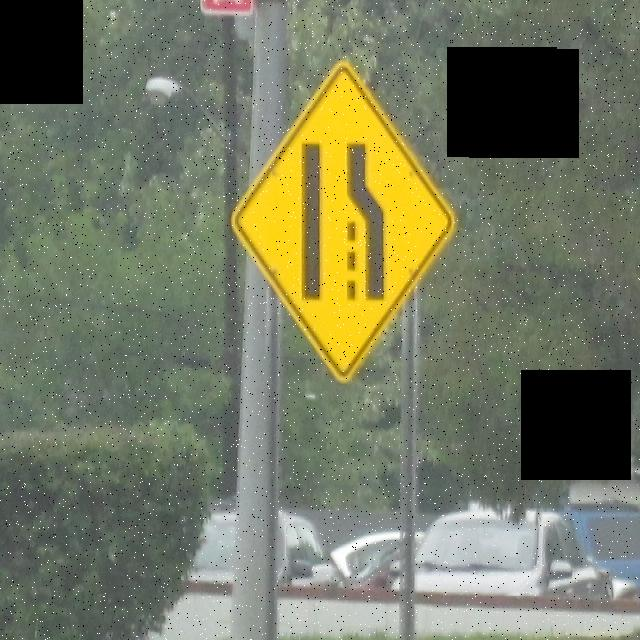warning: (232, 61, 455, 385)
